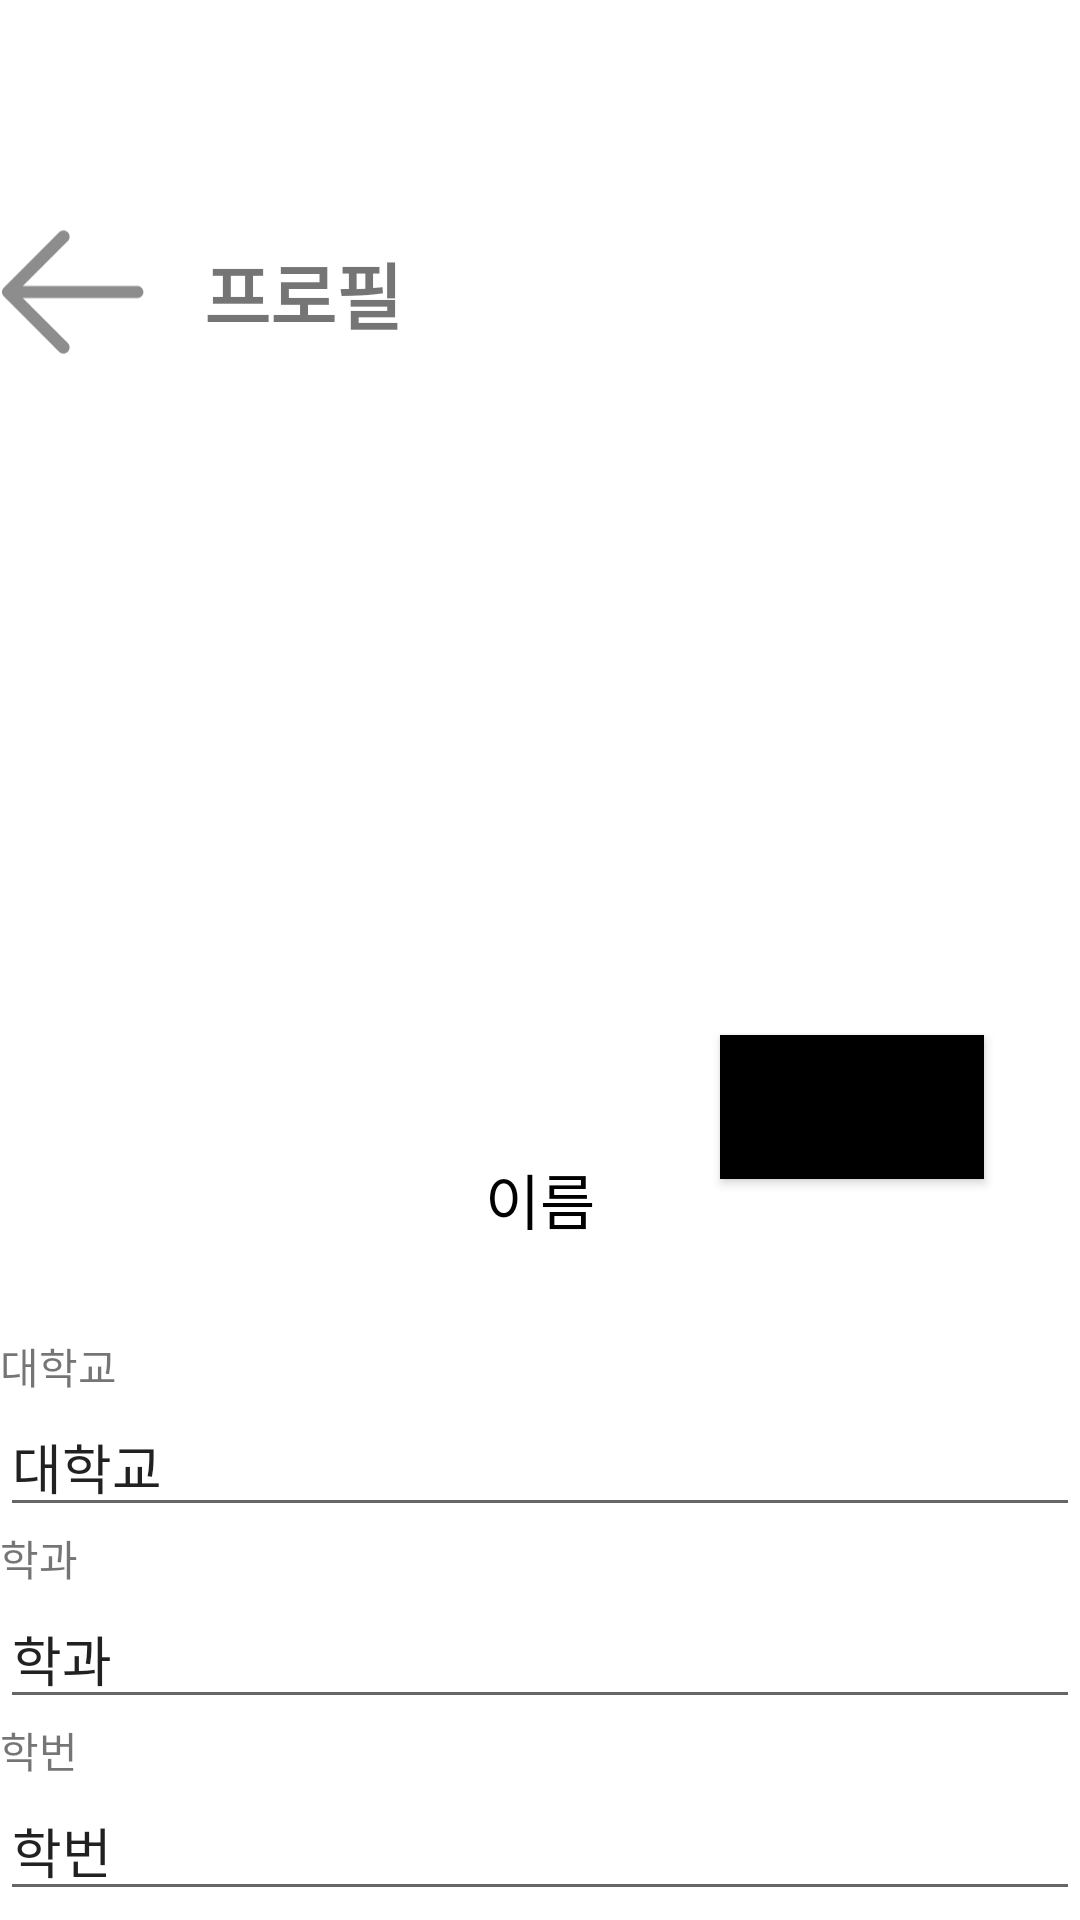

Screen size 1080x1920. Icon name, then its center in pixels as (x,y):
back: (73,292)
